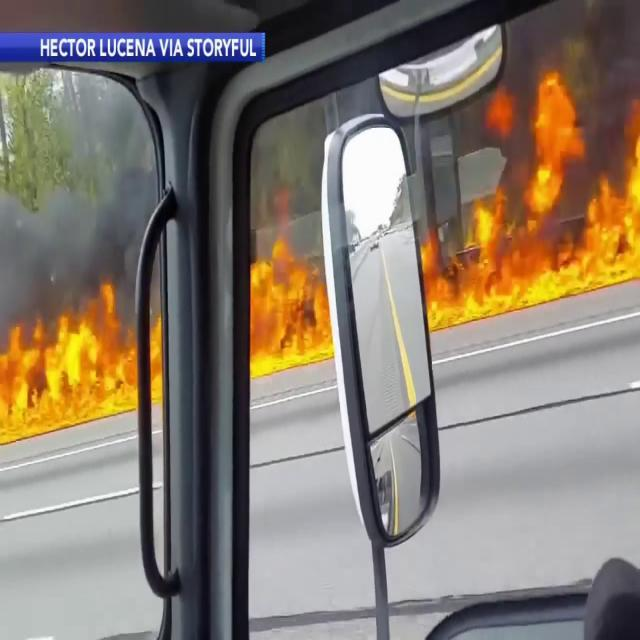Fire: (418, 58, 640, 328), (0, 284, 166, 419), (250, 238, 334, 374)
